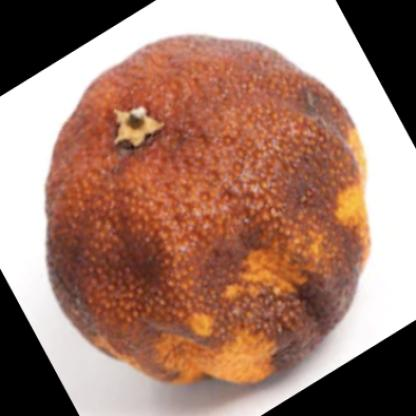rotten: (47, 36, 371, 388)
